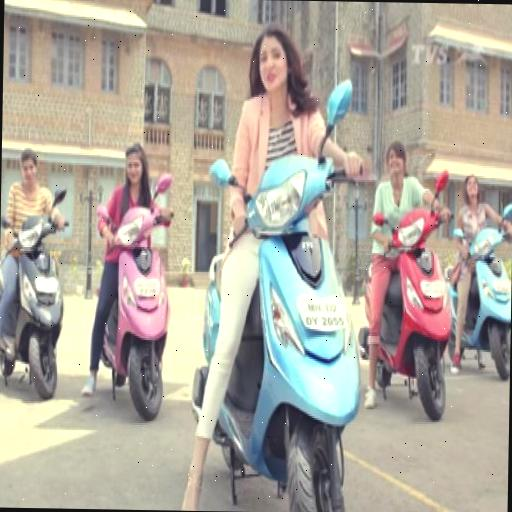no helmet: (204, 11, 378, 506), (358, 122, 464, 387), (81, 124, 178, 398), (0, 130, 71, 388), (450, 157, 512, 376)
